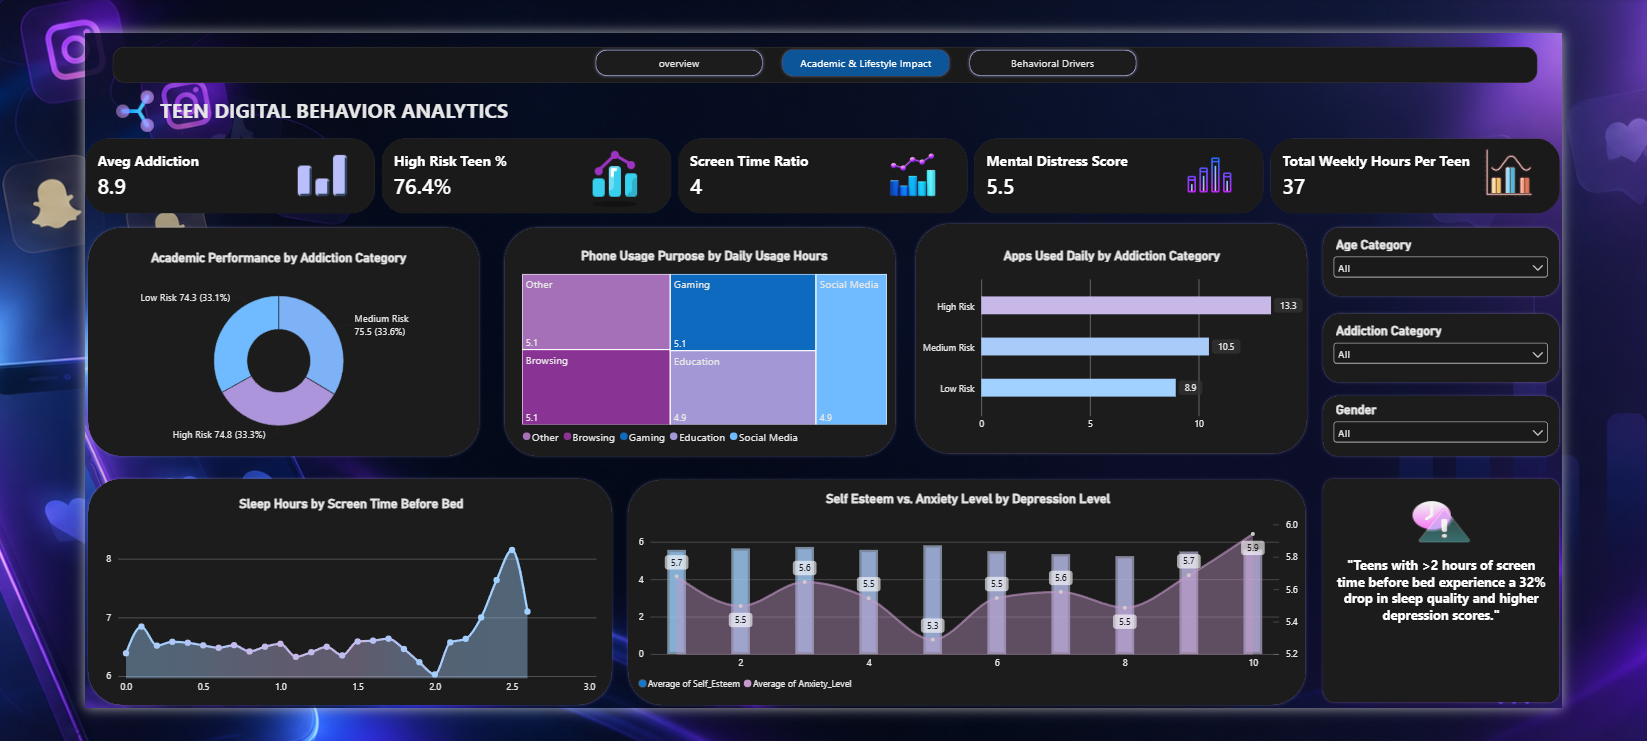

The page's visual inventory and layout, read from the dashboard file:
{"tool":"powerbi","page":{"name":"Academic & Lifestyle Impact","canvas":[1970,900],"ordinal":1},"visuals":[{"type":"cardVisual","fields":{"Data":["teen_phone_addiction_dataset.aveg addiction","teen_phone_addiction_dataset.High Risk Teen %","teen_phone_addiction_dataset.screen time ratio","teen_phone_addiction_dataset.Mental Distress Score","teen_phone_addiction_dataset.total weekly hours"]},"box":[0,140,1970,101.7],"z":0},{"type":"shape","box":[36.7,18.3,1900,48.3],"z":1000},{"type":"image","box":[275,151.7,83.3,75],"z":2000},{"type":"image","box":[1463.3,141.7,71.7,95],"z":3000},{"type":"image","box":[1066.7,143.3,73.3,95],"z":4000},{"type":"image","box":[663.3,140,86.7,96.7],"z":5000},{"type":"image","box":[1858.3,151.7,78.3,70],"z":6000},{"type":"shape","box":[720,591.7,911.7,308.3],"z":7000},{"type":"shape","box":[0,590,706.7,310],"z":8000},{"type":"shape","box":[0,255,530,313.3],"z":9000},{"type":"donutChart","title":"Academic Performance  by Addiction Category","fields":{"Category":["teen_phone_addiction_dataset.Addiction Category"],"Y":["Avg(teen_phone_addiction_dataset.Academic_Performance)"]},"box":[11.7,275,493.3,290],"z":10000},{"type":"shape","box":[555,255,530,313.3],"z":11000},{"type":"treemap","title":"Phone Usage Purpose by Daily Usage Hours","fields":{"Group":["teen_phone_addiction_dataset.Phone_Usage_Purpose"],"Values":["Avg(teen_phone_addiction_dataset.Daily_Usage_Hours)"]},"box":[566.7,271.7,518.3,296.7],"z":12000},{"type":"shape","box":[1103.3,250,530,315],"z":13000},{"type":"lineChart","title":"Sleep Hours by Screen Time Before Bed","fields":{"Category":["teen_phone_addiction_dataset.Screen_Time_Before_Bed"],"Y":["Avg(teen_phone_addiction_dataset.Sleep_Hours)"]},"box":[11.7,603.3,686.7,296.7],"z":14000},{"type":"shape","box":[1646.7,255,323.3,100],"z":15000},{"type":"shape","box":[1646.7,363.3,323.3,100],"z":16000},{"type":"shape","box":[1646.7,463.3,323.3,100],"z":17000},{"type":"slicer","fields":{"Values":["teen_phone_addiction_dataset.Gender"]},"box":[1660,480,295,65],"z":18000},{"type":"slicer","fields":{"Values":["teen_phone_addiction_dataset.Age Category"]},"box":[1660,271.7,295,66.7],"z":19000},{"type":"slicer","fields":{"Values":["teen_phone_addiction_dataset.Addiction Category"]},"box":[1661.7,380,295,65],"z":20000},{"type":"pageNavigator","box":[676.7,18.3,730,43.3],"z":21000},{"type":"textbox","box":[100,85,490,43.3],"z":22000},{"type":"image","box":[36.7,56.7,60,95],"z":23000},{"type":"lineStackedColumnComboChart","title":" Self Esteem vs.  Anxiety Level by Depression Level","fields":{"Category":["teen_phone_addiction_dataset.Depression_Level"],"Y":["Avg(teen_phone_addiction_dataset.Self_Esteem)"],"Y2":["Avg(teen_phone_addiction_dataset.Anxiety_Level)"]},"box":[721.7,596.7,911.7,300],"z":24000},{"type":"barChart","title":"Apps Used Daily by Addiction Category","fields":{"Category":["teen_phone_addiction_dataset.Addiction Category"],"Y":["Avg(teen_phone_addiction_dataset.Apps_Used_Daily)"]},"box":[1095,271.7,548.3,278.3],"z":25000},{"type":"actionButton","box":[1646.7,590,323.3,306.7],"z":26000},{"type":"image","box":[1766.7,621.7,81.7,60],"z":27000}]}

Visuals, with their boxes in screenshot pixels (x1, y1, x2, y2), scaled from the page's 1970x900 canvas onto the 1647x741 screenshot:
cardVisual - teen_phone_addiction_dataset.aveg addiction x teen_phone_addiction_dataset.High Risk Teen %: detection(0, 115, 1646, 199)
shape: detection(31, 15, 1619, 55)
image: detection(230, 125, 300, 187)
image: detection(1223, 117, 1283, 195)
image: detection(892, 118, 953, 196)
image: detection(555, 115, 627, 195)
image: detection(1554, 125, 1619, 183)
shape: detection(602, 487, 1364, 740)
shape: detection(0, 486, 591, 740)
shape: detection(0, 210, 443, 468)
"Academic Performance  by Addiction Category" donutChart: detection(10, 226, 422, 465)
shape: detection(464, 210, 907, 468)
"Phone Usage Purpose by Daily Usage Hours" treemap: detection(474, 224, 907, 468)
shape: detection(922, 206, 1366, 465)
"Sleep Hours by Screen Time Before Bed" lineChart: detection(10, 497, 584, 740)
shape: detection(1377, 210, 1646, 292)
shape: detection(1377, 299, 1646, 381)
shape: detection(1377, 381, 1646, 464)
slicer - teen_phone_addiction_dataset.Gender: detection(1388, 395, 1634, 449)
slicer - teen_phone_addiction_dataset.Age Category: detection(1388, 224, 1634, 279)
slicer - teen_phone_addiction_dataset.Addiction Category: detection(1389, 313, 1636, 366)
pageNavigator: detection(566, 15, 1176, 51)
textbox: detection(84, 70, 493, 106)
image: detection(31, 47, 81, 125)
" Self Esteem vs.  Anxiety Level by Depression Level" lineStackedColumnComboChart: detection(603, 491, 1366, 738)
"Apps Used Daily by Addiction Category" barChart: detection(915, 224, 1374, 453)
actionButton: detection(1377, 486, 1646, 738)
image: detection(1477, 512, 1545, 561)
